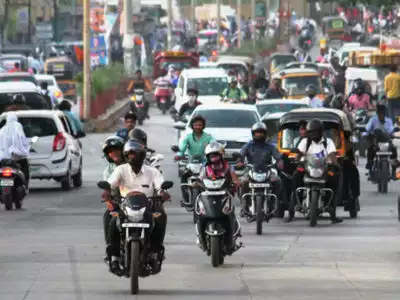two_wheeler: (98, 135, 174, 300), (193, 139, 245, 273), (237, 122, 286, 241), (289, 119, 340, 232), (362, 104, 399, 196), (126, 68, 148, 128)
